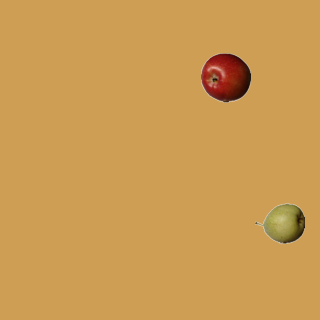Apple Braeburn: (200, 52, 250, 102)
Pear: (254, 198, 304, 248)
